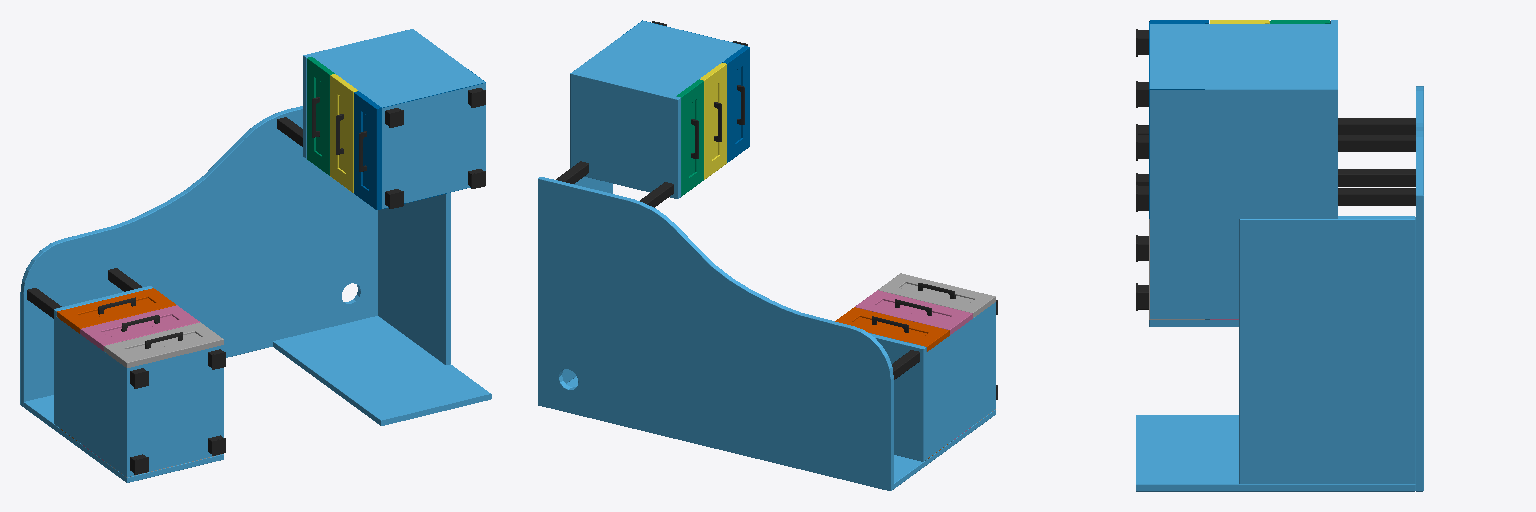
The robot description file, URDF, robot "s__1201":
<robot name="s__1201">


	<link name="0:virtual">
		<visual>
			<origin xyz="0.0 0.0 0.0" rpy="0 0 0"/>
			<geometry>
				<cylinder length="0" radius="0"/>
			</geometry>
		</visual>
	</link>


	<link name="1:static">
		<visual>
			<origin xyz="-0.0 -0.0 -0.0" rpy="0 0 0"/>
			<geometry>
				<mesh filename="../raw_data/s__1201/part_meshes/1.dae" />
			</geometry>
		</visual>
	</link>


	<link name="2:drawer 1">
		<visual>
			<origin xyz="-0.48914600908756256 -0.4422750025987625 -0.40566201508045197" rpy="0 0 0"/>
			<geometry>
				<mesh filename="../raw_data/s__1201/part_meshes/2.dae" />
			</geometry>
		</visual>
	</link>


	<link name="3:drawer 2">
		<visual>
			<origin xyz="-0.4892653673887253 -0.27920999377965927 -0.40566201508045197" rpy="0 0 0"/>
			<geometry>
				<mesh filename="../raw_data/s__1201/part_meshes/3.dae" />
			</geometry>
		</visual>
	</link>


	<link name="4:drawer 3">
		<visual>
			<origin xyz="-0.5001460164785385 -0.1161458995193243 -0.40566201508045197" rpy="0 0 0"/>
			<geometry>
				<mesh filename="../raw_data/s__1201/part_meshes/4.dae" />
			</geometry>
		</visual>
	</link>


	<link name="5:drawer 4">
		<visual>
			<origin xyz="0.5256620198488235 -0.4422750025987625 0.3581460043787956" rpy="0 0 0"/>
			<geometry>
				<mesh filename="../raw_data/s__1201/part_meshes/5.dae" />
			</geometry>
		</visual>
	</link>


	<link name="6:drawer 5">
		<visual>
			<origin xyz="0.5256620198488235 -0.27920999377965927 0.3581460043787956" rpy="0 0 0"/>
			<geometry>
				<mesh filename="../raw_data/s__1201/part_meshes/6.dae" />
			</geometry>
		</visual>
	</link>


	<link name="7:drawer 6">
		<visual>
			<origin xyz="0.5256620198488235 -0.1161458995193243 0.3581460043787956" rpy="0 0 0"/>
			<geometry>
				<mesh filename="../raw_data/s__1201/part_meshes/7.dae" />
			</geometry>
		</visual>
	</link>


	<joint name="0:virtual::1:static" type="fixed">
		<parent link="0:virtual"/>
		<child link="1:static"/>
		<origin xyz="0.0 0.0 0.0" rpy="0 0 0"/>
	</joint>


	<joint name="0:virtual::2:drawer 1_translation" type="prismatic">
		<parent link="0:virtual"/>
		<child link="2:drawer 1"/>
		<origin xyz="0.48914600908756256 0.4422750025987625 0.40566201508045197" rpy="0 0 0"/>
		<limit lower="-0.380237472176552" upper="0.0" effort="10" velocity="3"/>
		<axis xyz="1.0 0.0 0.0"/>
	</joint>


	<joint name="0:virtual::3:drawer 2_translation" type="prismatic">
		<parent link="0:virtual"/>
		<child link="3:drawer 2"/>
		<origin xyz="0.4892653673887253 0.27920999377965927 0.40566201508045197" rpy="0 0 0"/>
		<limit lower="-0.380237472176552" upper="0.0" effort="10" velocity="3"/>
		<axis xyz="1.0 0.0 0.0"/>
	</joint>


	<joint name="0:virtual::4:drawer 3_translation" type="prismatic">
		<parent link="0:virtual"/>
		<child link="4:drawer 3"/>
		<origin xyz="0.5001460164785385 0.1161458995193243 0.40566201508045197" rpy="0 0 0"/>
		<limit lower="-0.380237472176552" upper="0.0" effort="10" velocity="3"/>
		<axis xyz="1.0 0.0 0.0"/>
	</joint>


	<joint name="0:virtual::5:drawer 4_translation" type="prismatic">
		<parent link="0:virtual"/>
		<child link="5:drawer 4"/>
		<origin xyz="-0.5256620198488235 0.4422750025987625 -0.3581460043787956" rpy="0 0 0"/>
		<limit lower="-0.0002375392317772" upper="0.359762460768223" effort="10" velocity="3"/>
		<axis xyz="0.0 0.0 1.0"/>
	</joint>


	<joint name="0:virtual::6:drawer 5_translation" type="prismatic">
		<parent link="0:virtual"/>
		<child link="6:drawer 5"/>
		<origin xyz="-0.5256620198488235 0.27920999377965927 -0.3581460043787956" rpy="0 0 0"/>
		<limit lower="-0.0002375392317772" upper="0.359762460768223" effort="10" velocity="3"/>
		<axis xyz="0.0 0.0 1.0"/>
	</joint>


	<joint name="0:virtual::7:drawer 6_translation" type="prismatic">
		<parent link="0:virtual"/>
		<child link="7:drawer 6"/>
		<origin xyz="-0.5256620198488235 0.1161458995193243 -0.3581460043787956" rpy="0 0 0"/>
		<limit lower="-0.0002375392317772" upper="0.359762460768223" effort="10" velocity="3"/>
		<axis xyz="0.0 0.0 1.0"/>
	</joint>


</robot>

--- What the picture shows (computed from the rendered views, not written in the file) ---
Views: 3 orthographic renders of the robot side by side, from view 1: azimuth 30°, elevation 25°; view 2: azimuth 150°, elevation 25°; view 3: azimuth 270°, elevation 25°.
Model s__1201 with 8 links and 7 joints (6 prismatic, 1 fixed), rooted at 0:virtual, posed all joints at 0.
Links seen in each view (by area): view 1: 1:static, 4:drawer 3, 7:drawer 6, 3:drawer 2, 2:drawer 1, 6:drawer 5, 5:drawer 4; view 2: 1:static, 4:drawer 3, 3:drawer 2, 2:drawer 1, 7:drawer 6, 6:drawer 5, 5:drawer 4; view 3: 1:static, 4:drawer 3.
Boxes of the visible links, left/top/right/bottom form: 1:static: left=20, top=29, right=491, bottom=482; 4:drawer 3: left=354, top=69, right=485, bottom=209; 7:drawer 6: left=104, top=322, right=223, bottom=477; 3:drawer 2: left=330, top=74, right=357, bottom=192; 2:drawer 1: left=307, top=57, right=334, bottom=175; 6:drawer 5: left=80, top=305, right=199, bottom=460; 5:drawer 4: left=57, top=288, right=175, bottom=440; 1:static: left=538, top=21, right=997, bottom=490; 4:drawer 3: left=623, top=20, right=749, bottom=162; 3:drawer 2: left=700, top=63, right=726, bottom=179; 2:drawer 1: left=677, top=79, right=703, bottom=196; 7:drawer 6: left=878, top=273, right=997, bottom=422; 6:drawer 5: left=855, top=290, right=972, bottom=439; 5:drawer 4: left=835, top=307, right=949, bottom=458; 1:static: left=1136, top=20, right=1423, bottom=491; 4:drawer 3: left=1136, top=20, right=1208, bottom=218.
Bounding box of the posed robot: 1.44 × 0.776 × 1.2 m (x, y, z).
Meshes: 7 distinct files referenced, 7 mesh visuals loaded (7 Collada DAE).
